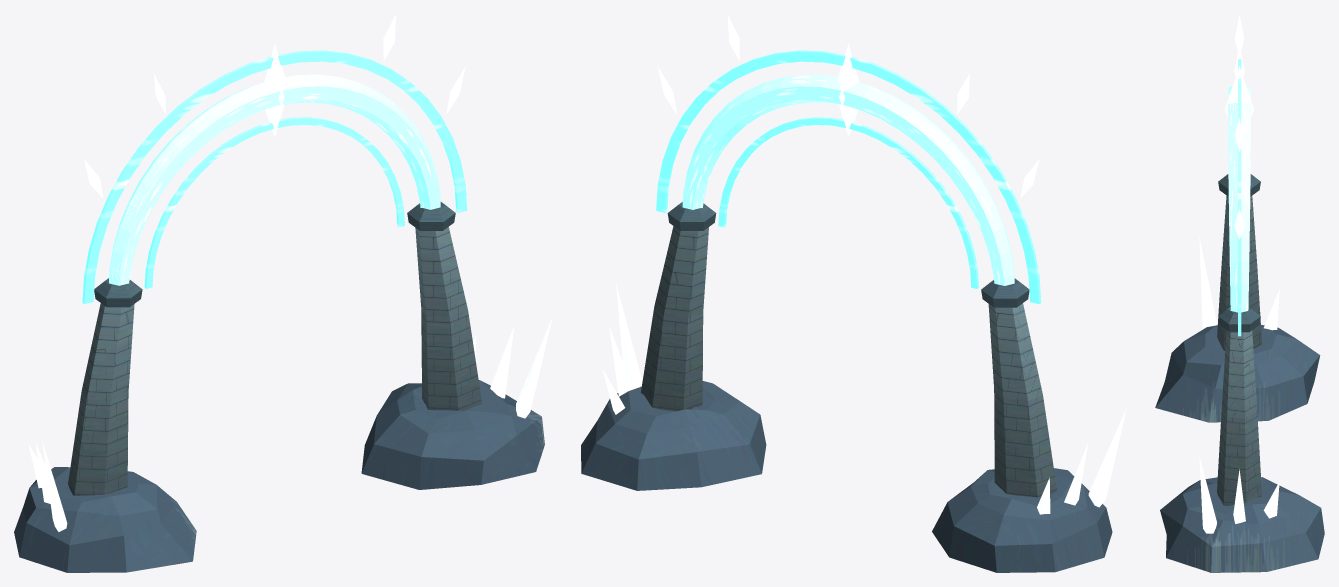
Rendered from AT_AuroraGate.fbx.
3 renders of one model, left to right at view 1: azimuth 30°, elevation 25°; view 2: azimuth 150°, elevation 25°; view 3: azimuth 270°, elevation 25°, orthographic. The views are drawn at different scales.
Parts seen in each view (by area): view 1: Islet_L, Islet_R, ArchLight, Pillar_R, Pillar_L, ArchRibbonOuter, ArchRibbonInner, PillarCap_R, PillarCap_L, Crystal_L2, Keystone_Up, Crystal_R2 (+1 smaller); view 2: Islet_L, Islet_R, ArchLight, Pillar_R, Pillar_L, ArchRibbonOuter, ArchRibbonInner, Crystal_R2, PillarCap_R, PillarCap_L, Crystal_L2, Keystone_Up; view 3: Islet_L, Islet_R, Pillar_L, ArchLight, Pillar_R, ArchRibbonOuter, PillarCap_L, Crystal_R2, Crystal_L2, Keystone_Up, Crystal_L1, PillarCap_R (+3 smaller).
Part boxes in pixels (x1,y1,x2,y2): Islet_L: (361, 380, 544, 489); Islet_R: (14, 467, 196, 572); ArchLight: (109, 74, 440, 285); Pillar_R: (68, 303, 134, 495); Pillar_L: (415, 227, 482, 410); ArchRibbonOuter: (82, 50, 467, 303); ArchRibbonInner: (144, 117, 404, 288); PillarCap_R: (94, 278, 142, 307); PillarCap_L: (407, 202, 455, 230); Crystal_L2: (516, 317, 552, 418); Keystone_Up: (264, 43, 285, 136); Crystal_R2: (42, 442, 67, 531); Islet_L: (581, 381, 766, 490); Islet_R: (932, 468, 1112, 572); ArchLight: (682, 74, 1014, 285); Pillar_R: (988, 303, 1056, 497); Pillar_L: (641, 226, 708, 411); ArchRibbonOuter: (656, 50, 1041, 304); ArchRibbonInner: (718, 117, 978, 288); Crystal_R2: (1088, 408, 1126, 507); PillarCap_R: (981, 278, 1029, 307); PillarCap_L: (667, 202, 716, 230); Crystal_L2: (616, 283, 642, 389); Keystone_Up: (838, 44, 859, 136); Islet_L: (1160, 477, 1324, 572); Islet_R: (1155, 325, 1320, 422); Pillar_L: (1217, 330, 1261, 505); ArchLight: (1228, 85, 1250, 312); Pillar_R: (1217, 195, 1261, 350); ArchRibbonOuter: (1238, 59, 1241, 336); PillarCap_L: (1218, 307, 1260, 332); Crystal_R2: (1199, 237, 1217, 328); Crystal_L2: (1199, 456, 1216, 533); Keystone_Up: (1225, 66, 1254, 117); Crystal_L1: (1233, 469, 1245, 523); PillarCap_R: (1218, 174, 1260, 196).
Bounding box in the file's own units: 38.82 × 32.8 × 12.67.
1 material, 1 textured.
